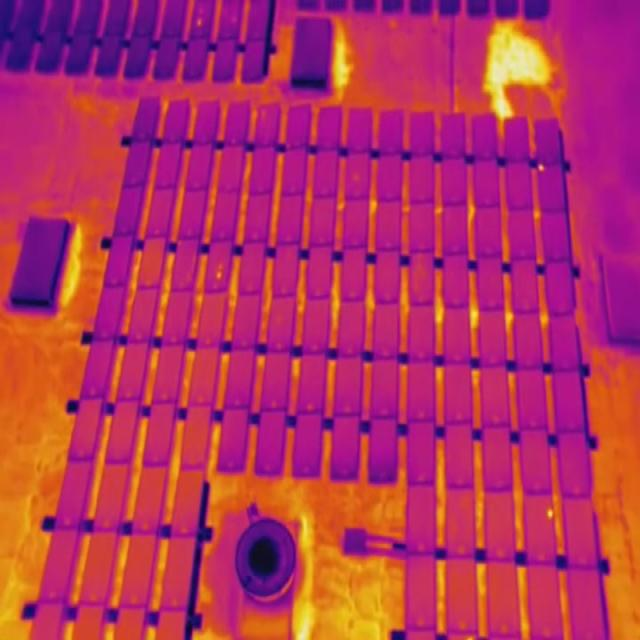Orange-Spots: (217, 263, 223, 279), (548, 508, 554, 519), (539, 164, 544, 172), (197, 19, 201, 27)
